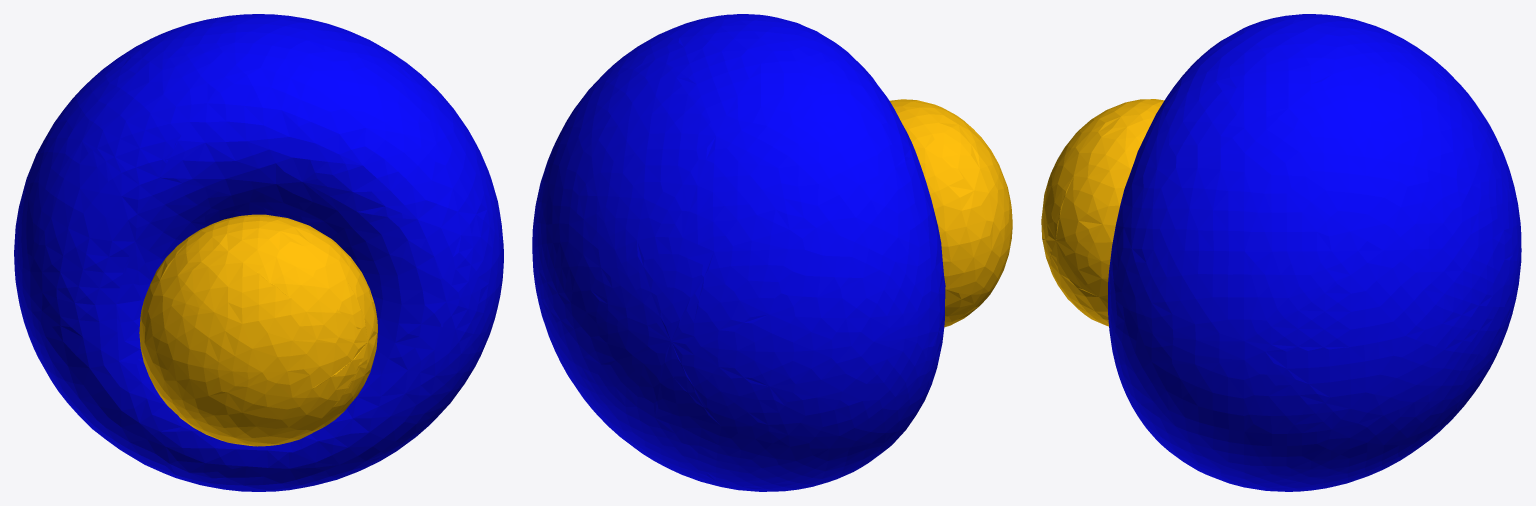
3 views of the same model, side by side, from view 1: azimuth 30°, elevation 25°; view 2: azimuth 150°, elevation 25°; view 3: azimuth 270°, elevation 25° (orthographic).
Size of the model in its own units: 11.55 by 11.97 by 11.96.
